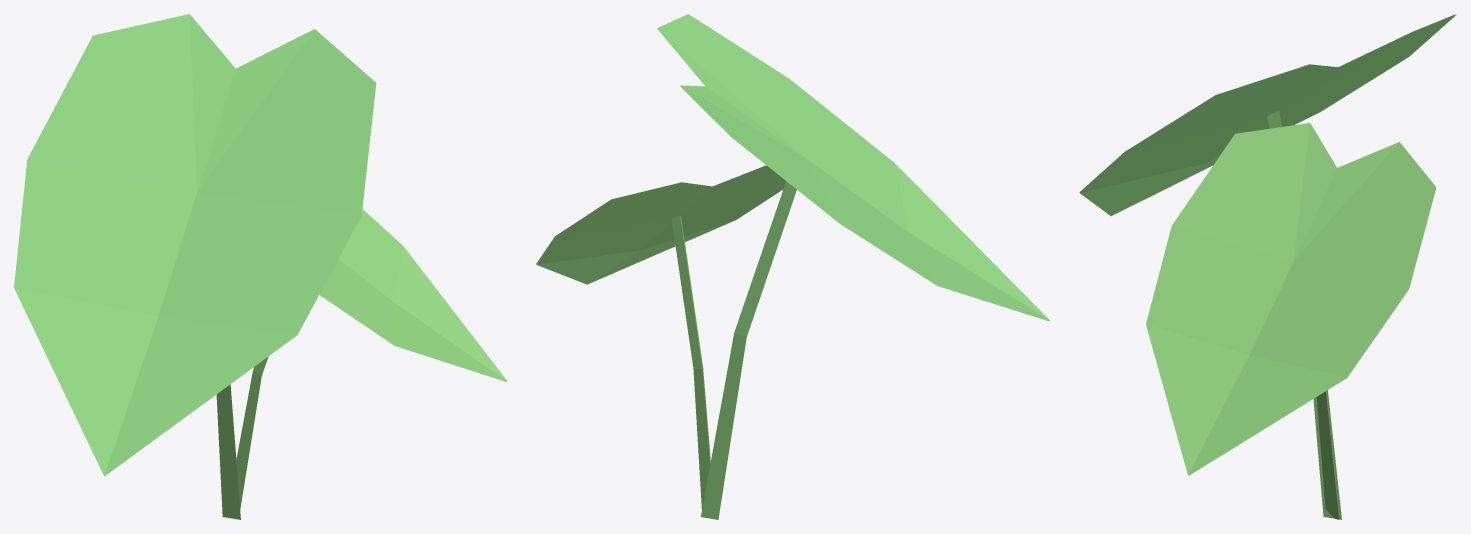
The model's file is Plant_d_TwoS_04.fbx.
The picture shows the model from 3 angles, left to right: view 1: azimuth 30°, elevation 25°; view 2: azimuth 150°, elevation 25°; view 3: azimuth 270°, elevation 25°; orthographic projection. The views are drawn at different scales.
Visible parts, largest first — view 1: Plant_d_TwoS_04; view 2: Plant_d_TwoS_04; view 3: Plant_d_TwoS_04.
Boxes of the visible parts, x1=… form: Plant_d_TwoS_04: x1=14, y1=14, x2=507, y2=519; Plant_d_TwoS_04: x1=536, y1=14, x2=1050, y2=519; Plant_d_TwoS_04: x1=1079, y1=14, x2=1455, y2=519.
Size of the model in its own units: 60.38 by 62.62 by 44.09.
